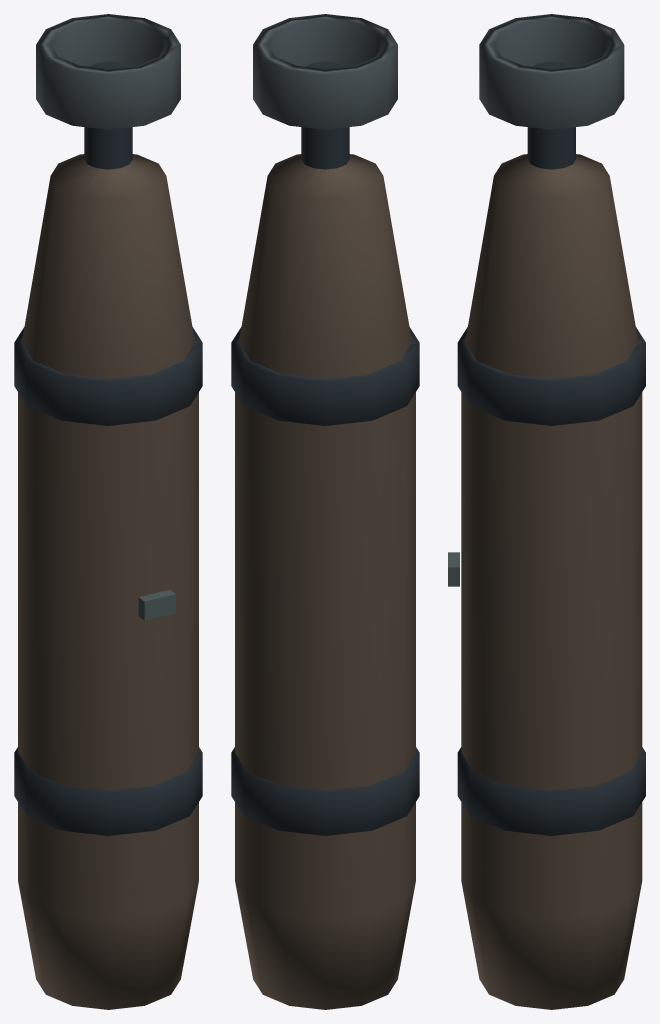
The model's file is gas-cylinder-3.glb.
The picture shows the model from 3 angles, left to right: view 1: azimuth 30°, elevation 25°; view 2: azimuth 150°, elevation 25°; view 3: azimuth 270°, elevation 25°; orthographic projection.
Visible parts, largest first — view 1: gas-cylinder/2/KR-230-3; view 2: gas-cylinder/2/KR-230-3; view 3: gas-cylinder/2/KR-230-3.
Boxes of the visible parts, x1=… form: gas-cylinder/2/KR-230-3: x1=14, y1=14, x2=202, y2=1009; gas-cylinder/2/KR-230-3: x1=231, y1=14, x2=419, y2=1009; gas-cylinder/2/KR-230-3: x1=448, y1=14, x2=645, y2=1009.
Bounding box in the file's own units: 0.312 × 1.71 × 0.328.
